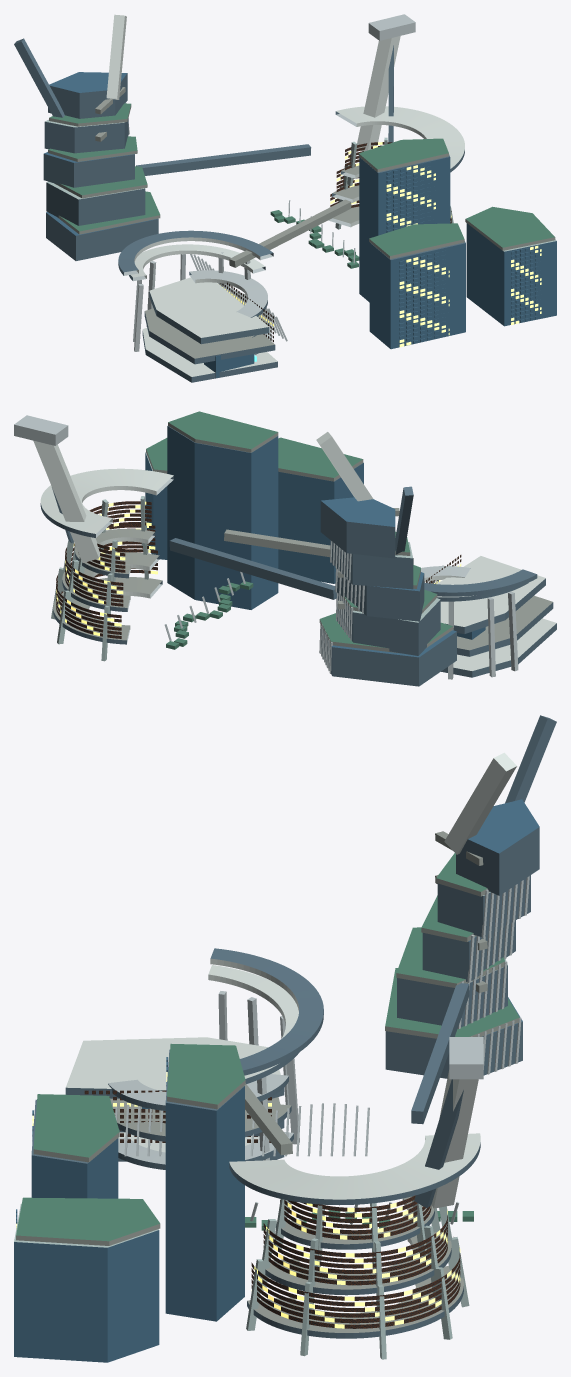
Rendered from G4E7BV_ARCHITECTURAL_QUARTER_ART_ONLY.glb.
The picture shows the model from 3 angles, top to bottom: view 1: azimuth 30°, elevation 25°; view 2: azimuth 150°, elevation 25°; view 3: azimuth 270°, elevation 25°; orthographic projection. The views are drawn at different scales.
Visible parts, largest first — view 1: Resident/cultural school built quad 0, Resident/cultural school built quad 1, Resident/cultural school built quad 2, Transit concourse / inhabited stepped platform L2, Arcology wing A / architecturally occupied layer 1, Arcology wing A / architecturally occupied layer 0, Transit concourse / inhabited stepped platform L1, A single large sculptural civic canopy / not a background ri, Arcology wing A / architecturally occupied layer 4, Integrated roof commons and tree deck / 1, Arcology wing A / architecturally occupied layer 2, Integrated roof commons and tree deck / 0 (+18 smaller); view 2: Resident/cultural school built quad 2, Resident/cultural school built quad 0, Arcology wing A / architecturally occupied layer 0, Arcology wing A / architecturally occupied layer 4, A single large sculptural civic canopy / not a background ri, Transit concourse / inhabited stepped platform L2, Arcology wing A / architecturally occupied layer 1, Integrated roof commons and tree deck / 2, Second diagonal public urban-connection bridge, EAST landmark leaning observation needle, Arcology wing A / architecturally occupied layer 2, Arcology wing A / architecturally occupied layer 3 (+21 smaller); view 3: Resident/cultural school built quad 1, Resident/cultural school built quad 2, A single large sculptural civic canopy / not a background ri, Integrated roof commons and tree deck / 1, Transit concourse / inhabited stepped platform L2, Original curved civic aquarium halls / glazing 0, Arcology wing A / architecturally occupied layer 4, Integrated roof commons and tree deck / 0, Original curved civic aquarium halls / glazing 1, Civic transit vault roof / long copper glass canopy 1, Integrated roof commons and tree deck / 2, Resident/cultural school built quad 0 (+23 smaller).
Part boxes in pixels (left/top/right/bottom): Resident/cultural school built quad 0: left=369, top=241, right=465, bottom=349; Resident/cultural school built quad 1: left=466, top=223, right=556, bottom=326; Resident/cultural school built quad 2: left=359, top=154, right=450, bottom=302; Transit concourse / inhabited stepped platform L2: left=149, top=277, right=269, bottom=344; Arcology wing A / architecturally occupied layer 1: left=46, top=181, right=145, bottom=225; Arcology wing A / architecturally occupied layer 0: left=46, top=212, right=158, bottom=260; Transit concourse / inhabited stepped platform L1: left=144, top=308, right=275, bottom=364; A single large sculptural civic canopy / not a background ri: left=335, top=106, right=464, bottom=172; Arcology wing A / architecturally occupied layer 4: left=48, top=72, right=127, bottom=118; Integrated roof commons and tree deck / 1: left=465, top=206, right=555, bottom=250; Arcology wing A / architecturally occupied layer 2: left=43, top=152, right=134, bottom=187; Integrated roof commons and tree deck / 0: left=369, top=223, right=464, bottom=259; Resident/cultural school built quad 2: left=167, top=426, right=278, bottom=609; Resident/cultural school built quad 0: left=278, top=462, right=363, bottom=583; Arcology wing A / architecturally occupied layer 0: left=321, top=627, right=456, bottom=686; Arcology wing A / architecturally occupied layer 4: left=320, top=497, right=395, bottom=558; A single large sculptural civic canopy / not a background ri: left=40, top=468, right=173, bottom=537; Transit concourse / inhabited stepped platform L2: left=437, top=556, right=545, bottom=634; Arcology wing A / architecturally occupied layer 1: left=337, top=593, right=440, bottom=655; Integrated roof commons and tree deck / 2: left=168, top=411, right=278, bottom=452; Second diagonal public urban-connection bridge: left=169, top=538, right=336, bottom=599; EAST landmark leaning observation needle: left=33, top=440, right=100, bottom=562; Arcology wing A / architecturally occupied layer 2: left=337, top=572, right=424, bottom=621; Arcology wing A / architecturally occupied layer 3: left=331, top=542, right=413, bottom=589; Resident/cultural school built quad 1: left=14, top=1204, right=159, bottom=1362; Resident/cultural school built quad 2: left=165, top=1049, right=244, bottom=1321; A single large sculptural civic canopy / not a background ri: left=229, top=1133, right=480, bottom=1205; Integrated roof commons and tree deck / 1: left=16, top=1197, right=160, bottom=1245; Transit concourse / inhabited stepped platform L2: left=65, top=1037, right=284, bottom=1099; Original curved civic aquarium halls / glazing 0: left=251, top=1246, right=460, bottom=1328; Arcology wing A / architecturally occupied layer 4: left=456, top=799, right=539, bottom=895; Integrated roof commons and tree deck / 0: left=33, top=1094, right=119, bottom=1162; Original curved civic aquarium halls / glazing 1: left=263, top=1210, right=447, bottom=1285; Civic transit vault roof / long copper glass canopy 1: left=210, top=948, right=323, bottom=1075; Integrated roof commons and tree deck / 2: left=167, top=1043, right=245, bottom=1109; Resident/cultural school built quad 0: left=31, top=1099, right=118, bottom=1198.
Size of the model in its own units: 761 by 494 by 616.
11 materials, 1 textured.
